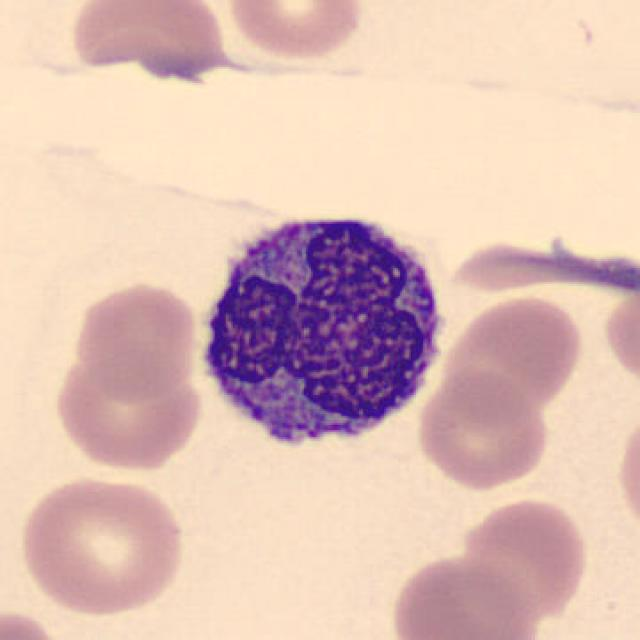Monocyte: (187, 194, 457, 469)
RBC: (14, 471, 190, 619), (50, 349, 206, 474), (441, 291, 585, 421), (414, 368, 553, 492), (457, 494, 592, 620), (69, 277, 203, 402), (64, 0, 233, 83), (386, 550, 538, 640), (443, 235, 631, 296), (222, 0, 370, 67), (601, 280, 640, 390), (613, 405, 640, 545), (0, 604, 73, 640)
